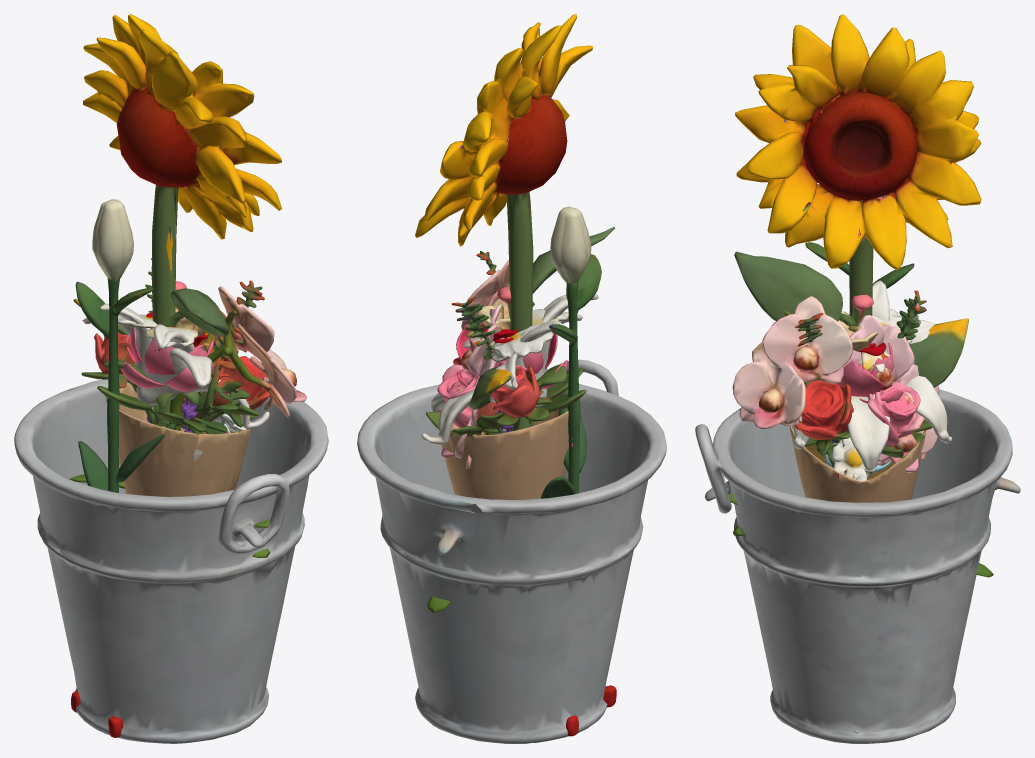
File: fleuriste.glb
3 renders of one model, left to right at view 1: azimuth 30°, elevation 25°; view 2: azimuth 150°, elevation 25°; view 3: azimuth 270°, elevation 25°, orthographic. The views are drawn at different scales.
Parts seen in each view (by area): view 1: seau-a-fleurs, tournesol, bouquet-emballe, lys, orchidee-en-pot, pivoine; view 2: seau-a-fleurs, tournesol, bouquet-emballe, lys, orchidee-en-pot, pivoine; view 3: seau-a-fleurs, tournesol, bouquet-emballe, orchidee-en-pot, lys, pivoine.
Boxes of the visible parts, x1=… form: seau-a-fleurs: x1=14, y1=379, x2=328, y2=743; tournesol: x1=73, y1=14, x2=281, y2=424; bouquet-emballe: x1=81, y1=258, x2=269, y2=496; lys: x1=75, y1=199, x2=269, y2=492; orchidee-en-pot: x1=69, y1=286, x2=306, y2=558; pivoine: x1=121, y1=327, x2=223, y2=433; seau-a-fleurs: x1=357, y1=359, x2=666, y2=743; tournesol: x1=415, y1=14, x2=614, y2=430; bouquet-emballe: x1=426, y1=251, x2=586, y2=499; lys: x1=421, y1=206, x2=601, y2=498; orchidee-en-pot: x1=427, y1=260, x2=534, y2=613; pivoine: x1=456, y1=323, x2=568, y2=433; seau-a-fleurs: x1=695, y1=389, x2=1020, y2=743; tournesol: x1=734, y1=14, x2=981, y2=387; bouquet-emballe: x1=780, y1=290, x2=946, y2=502; orchidee-en-pot: x1=728, y1=296, x2=993, y2=577; lys: x1=793, y1=242, x2=952, y2=470; pivoine: x1=828, y1=343, x2=903, y2=467.
Bounding box in the file's own units: 0.3294 × 0.7996 × 0.35.
3 materials, 3 textured.
